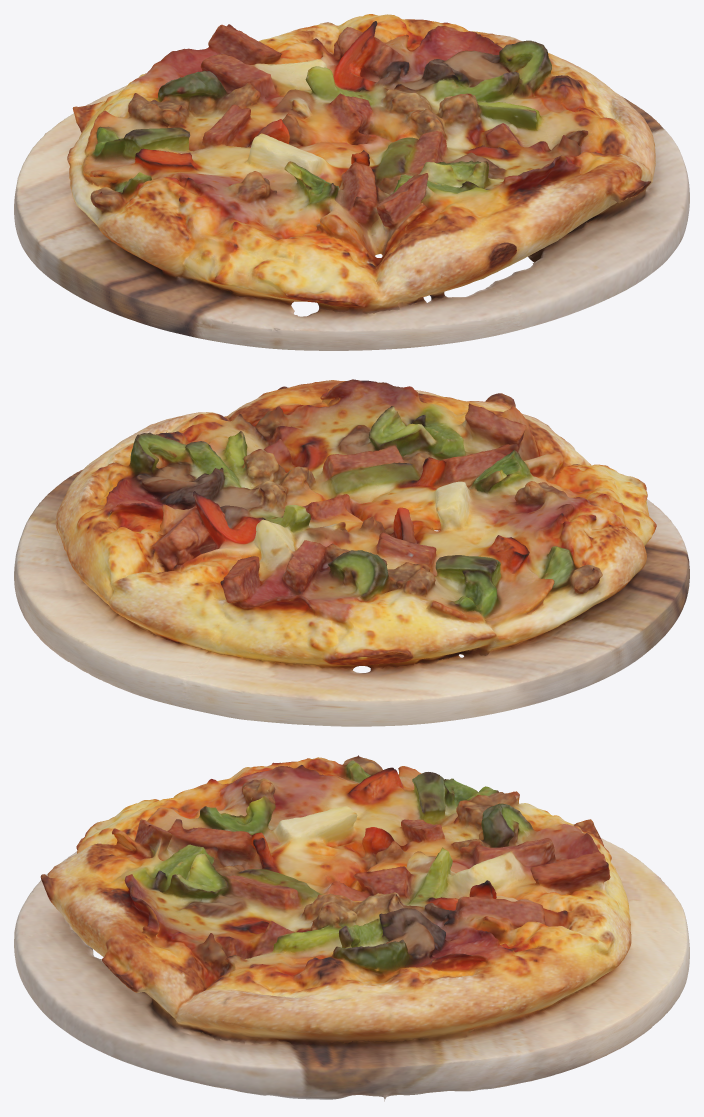
File: pizza.glb
3 renders of one model, top to bottom at view 1: azimuth 30°, elevation 25°; view 2: azimuth 150°, elevation 25°; view 3: azimuth 270°, elevation 25°, orthographic.
Parts seen in each view (by area): view 1: mainMeshNode; view 2: mainMeshNode; view 3: mainMeshNode.
Part boxes in pixels (x1=…): mainMeshNode: x1=14, y1=14, x2=689, y2=350; mainMeshNode: x1=14, y1=379, x2=689, y2=726; mainMeshNode: x1=14, y1=755, x2=689, y2=1101.
Bounding box in the file's own units: 24.04 × 4.78 × 23.38.
1 material, 1 textured.
